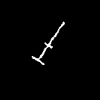double_crochet: (32, 22, 64, 64)
